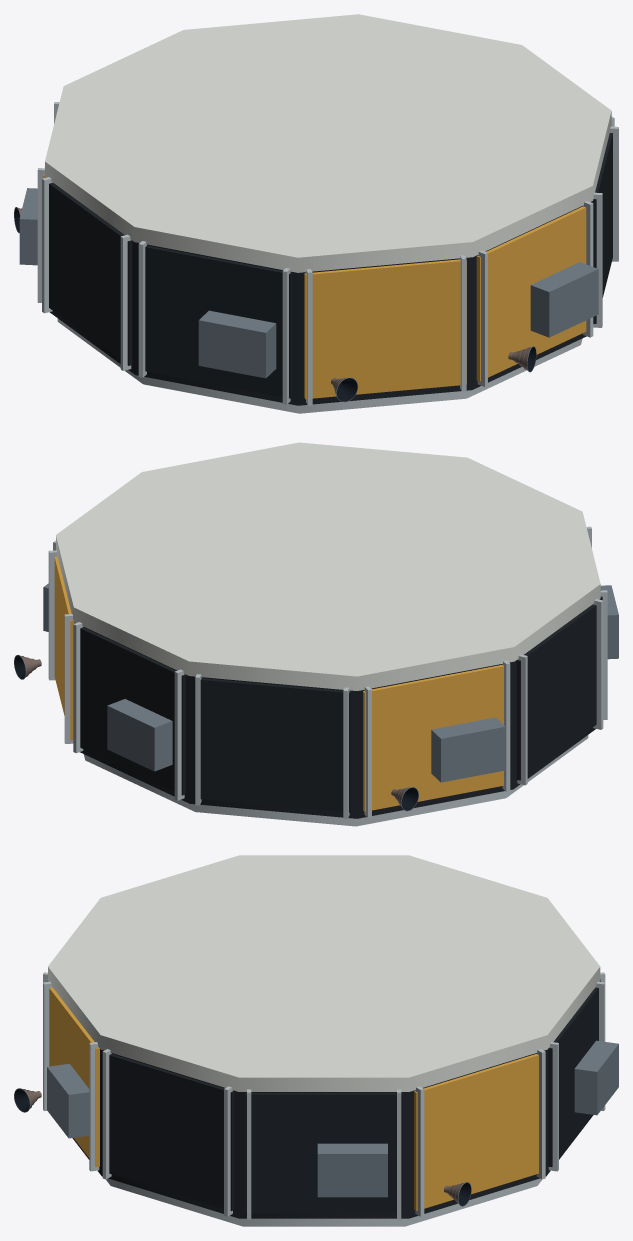
Rendered from voyager_spacecraft_bus.glb.
The picture shows the model from 3 angles, top to bottom: view 1: azimuth 30°, elevation 25°; view 2: azimuth 150°, elevation 25°; view 3: azimuth 270°, elevation 25°; orthographic projection. The views are drawn at different scales.
Parts seen in each view (by area): view 1: voyager_busmesh_Pale_thermal_blanket, voyager_busequipment_bay_10mesh_Gold_thermal_insulation, voyager_busequipment_bay_09mesh_Carbon_composite, voyager_busequipment_bay_08mesh_Carbon_composite, voyager_busequipment_bay_01mesh_Gold_thermal_insulation, voyager_busmesh_Carbon_composite, voyager_busequipment_bay_09mesh_Machined_steel, voyager_busequipment_bay_01mesh_Machined_steel, voyager_busmesh_Satin_aluminum, voyager_busequipment_bay_08mesh_Satin_aluminum, voyager_busequipment_bay_09mesh_Satin_aluminum, voyager_busequipment_bay_02mesh_Carbon_composite (+5 smaller); view 2: voyager_busmesh_Pale_thermal_blanket, voyager_busequipment_bay_06mesh_Carbon_composite, voyager_busequipment_bay_07mesh_Gold_thermal_insulation, voyager_busequipment_bay_08mesh_Carbon_composite, voyager_busequipment_bay_05mesh_Carbon_composite, voyager_busmesh_Carbon_composite, voyager_busequipment_bay_07mesh_Machined_steel, voyager_busequipment_bay_05mesh_Machined_steel, voyager_busmesh_Satin_aluminum, voyager_busequipment_bay_05mesh_Satin_aluminum, voyager_busequipment_bay_04mesh_Gold_thermal_insulation, voyager_busequipment_bay_08mesh_Satin_aluminum (+5 smaller); view 3: voyager_busmesh_Pale_thermal_blanket, voyager_busequipment_bay_02mesh_Carbon_composite, voyager_busequipment_bay_03mesh_Carbon_composite, voyager_busequipment_bay_04mesh_Gold_thermal_insulation, voyager_busmesh_Carbon_composite, voyager_busequipment_bay_05mesh_Carbon_composite, voyager_busequipment_bay_03mesh_Machined_steel, voyager_busmesh_Satin_aluminum, voyager_busequipment_bay_01mesh_Gold_thermal_insulation, voyager_busequipment_bay_05mesh_Machined_steel, voyager_busequipment_bay_01mesh_Machined_steel, voyager_busequipment_bay_04mesh_Satin_aluminum (+4 smaller).
Part boxes in pixels (x1,y1,x2,y2): voyager_busmesh_Pale_thermal_blanket: (45,14,611,272); voyager_busequipment_bay_10mesh_Gold_thermal_insulation: (304,259,466,399); voyager_busequipment_bay_09mesh_Carbon_composite: (145,245,292,398); voyager_busequipment_bay_08mesh_Carbon_composite: (49,183,132,365); voyager_busequipment_bay_01mesh_Gold_thermal_insulation: (476,206,586,381); voyager_busmesh_Carbon_composite: (49,183,591,405); voyager_busequipment_bay_09mesh_Machined_steel: (198,310,276,378); voyager_busequipment_bay_01mesh_Machined_steel: (530,262,598,337); voyager_busmesh_Satin_aluminum: (57,318,582,413); voyager_busequipment_bay_08mesh_Satin_aluminum: (42,177,131,370); voyager_busequipment_bay_09mesh_Satin_aluminum: (138,241,290,404); voyager_busequipment_bay_02mesh_Carbon_composite: (592,133,612,323); voyager_busmesh_Pale_thermal_blanket: (56,442,600,690); voyager_busequipment_bay_06mesh_Carbon_composite: (195,678,350,812); voyager_busequipment_bay_07mesh_Gold_thermal_insulation: (363,665,503,811); voyager_busequipment_bay_08mesh_Carbon_composite: (516,604,596,780); voyager_busequipment_bay_05mesh_Carbon_composite: (80,627,185,795); voyager_busmesh_Carbon_composite: (74,604,595,818); voyager_busequipment_bay_07mesh_Machined_steel: (431,717,505,782); voyager_busequipment_bay_05mesh_Machined_steel: (107,699,172,771); voyager_busmesh_Satin_aluminum: (83,735,588,826); voyager_busequipment_bay_05mesh_Satin_aluminum: (73,622,184,800); voyager_busequipment_bay_04mesh_Gold_thermal_insulation: (54,556,74,740); voyager_busequipment_bay_08mesh_Satin_aluminum: (517,599,603,785); voyager_busmesh_Pale_thermal_blanket: (48,855,600,1091); voyager_busequipment_bay_02mesh_Carbon_composite: (109,1054,234,1210); voyager_busequipment_bay_03mesh_Carbon_composite: (245,1093,402,1212); voyager_busequipment_bay_04mesh_Gold_thermal_insulation: (414,1054,538,1210); voyager_busmesh_Carbon_composite: (72,1049,593,1218); voyager_busequipment_bay_05mesh_Carbon_composite: (548,987,598,1166); voyager_busequipment_bay_03mesh_Machined_steel: (317,1143,387,1197); voyager_busmesh_Satin_aluminum: (106,1178,542,1226); voyager_busequipment_bay_01mesh_Gold_thermal_insulation: (49,987,99,1167); voyager_busequipment_bay_05mesh_Machined_steel: (574,1040,618,1115); voyager_busequipment_bay_01mesh_Machined_steel: (47,1063,89,1138); voyager_busequipment_bay_04mesh_Satin_aluminum: (415,1049,545,1216).
Size of the model in its own units: 1.76 by 0.532 by 1.89.
